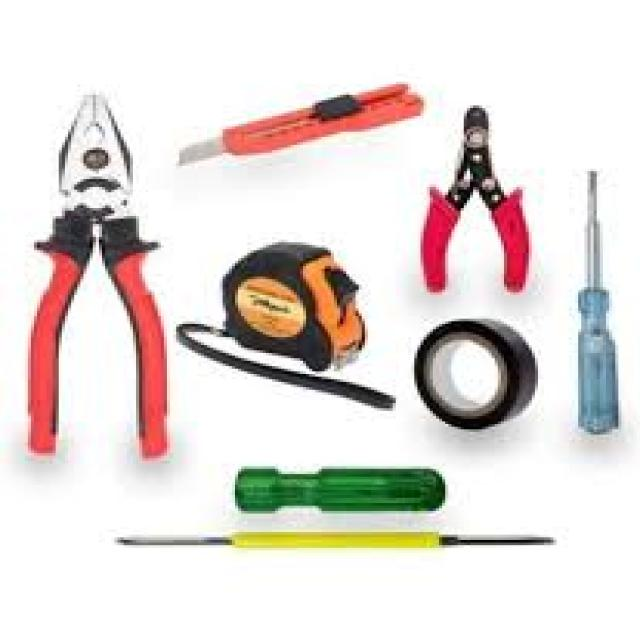Screwdriver: (235, 467, 446, 519), (578, 171, 618, 433), (117, 529, 555, 548)
